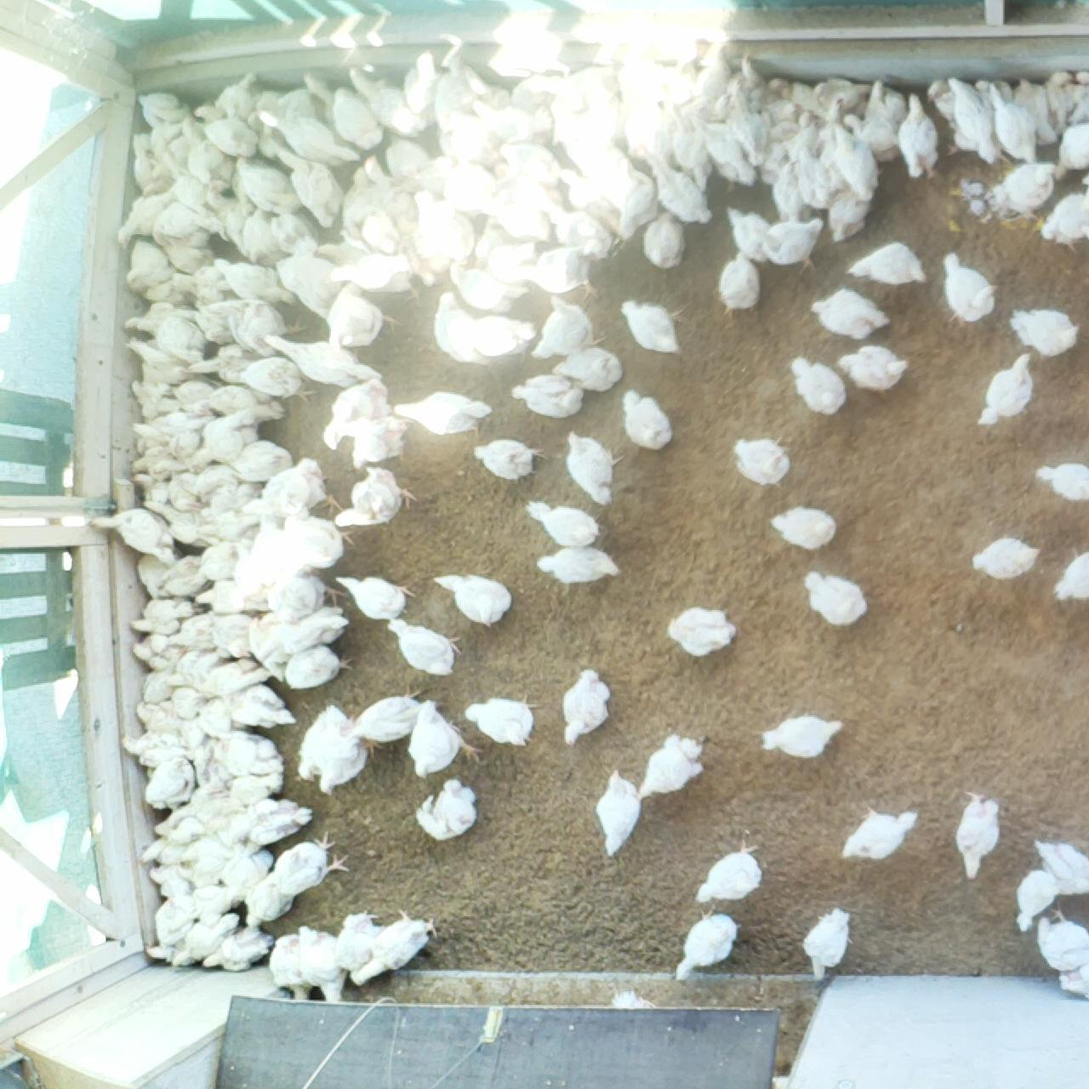chicken: (630, 140, 716, 230), (239, 456, 350, 522), (403, 697, 485, 783), (301, 69, 384, 151), (353, 909, 443, 984), (264, 332, 384, 388), (577, 149, 661, 228), (337, 682, 438, 747), (262, 828, 357, 897), (349, 65, 434, 140), (258, 109, 361, 168), (319, 378, 399, 453), (558, 167, 639, 241), (361, 151, 433, 234), (672, 901, 745, 981), (276, 144, 346, 227), (87, 507, 179, 569), (927, 75, 996, 157), (320, 283, 404, 350), (386, 615, 470, 682), (688, 110, 760, 187), (333, 465, 420, 528), (530, 294, 612, 360), (392, 389, 501, 438), (244, 522, 323, 589), (975, 350, 1043, 427), (509, 242, 607, 294), (277, 251, 353, 318), (692, 837, 769, 903), (636, 735, 710, 803), (263, 604, 358, 656), (795, 906, 859, 983), (280, 509, 362, 569), (837, 807, 923, 864), (330, 906, 392, 985), (460, 691, 545, 748), (429, 288, 488, 370), (982, 162, 1061, 223), (564, 430, 627, 506), (416, 775, 484, 845), (295, 705, 356, 783), (448, 259, 531, 316), (233, 154, 308, 217), (619, 298, 699, 357), (545, 204, 622, 265), (810, 287, 895, 342), (212, 257, 300, 310), (952, 790, 1003, 881), (946, 79, 1003, 160), (590, 769, 643, 856), (257, 573, 351, 622), (941, 250, 1000, 328), (231, 301, 316, 355), (722, 77, 773, 167), (432, 572, 512, 629), (216, 362, 320, 405), (114, 185, 181, 251), (842, 239, 930, 289), (333, 573, 419, 624), (560, 665, 612, 749), (469, 98, 556, 148), (522, 497, 605, 549), (898, 91, 944, 184), (595, 106, 665, 167), (757, 218, 827, 279), (801, 569, 872, 628), (987, 84, 1040, 163), (201, 184, 259, 256), (168, 912, 245, 966), (829, 121, 883, 198), (141, 497, 224, 547), (758, 714, 846, 761), (187, 411, 259, 468), (299, 921, 349, 1003), (663, 606, 740, 659), (835, 345, 912, 397), (193, 70, 267, 124), (452, 315, 540, 360), (790, 354, 850, 420), (316, 729, 374, 797), (431, 108, 499, 166), (393, 212, 447, 285), (208, 728, 288, 777), (349, 415, 419, 471), (327, 252, 416, 296), (435, 155, 502, 212), (199, 925, 278, 973), (507, 372, 586, 420), (125, 421, 189, 480), (1009, 306, 1080, 359), (219, 683, 299, 730), (569, 72, 624, 140), (267, 931, 320, 1001), (281, 644, 358, 692), (198, 652, 280, 697), (532, 545, 622, 586), (149, 199, 225, 247), (667, 114, 713, 193), (412, 189, 460, 264), (1034, 907, 1089, 972), (226, 541, 279, 608), (835, 109, 902, 162), (763, 76, 834, 126), (549, 347, 626, 393), (1032, 837, 1089, 899), (167, 883, 251, 925), (470, 439, 550, 483), (400, 47, 448, 120), (246, 611, 296, 681), (231, 804, 316, 845), (341, 210, 415, 257), (769, 503, 841, 551), (971, 532, 1043, 580), (129, 595, 205, 640), (724, 203, 780, 264), (745, 118, 800, 180), (153, 316, 216, 370), (185, 342, 266, 384), (482, 199, 554, 246), (495, 140, 564, 189), (189, 576, 273, 616), (621, 390, 676, 451), (433, 55, 483, 122), (124, 236, 178, 298), (194, 385, 287, 421), (428, 200, 479, 265), (334, 163, 385, 228), (547, 109, 597, 174), (230, 439, 302, 484), (125, 334, 192, 382), (689, 38, 737, 105), (666, 91, 729, 142), (731, 436, 793, 487), (146, 896, 195, 960), (185, 137, 240, 194), (120, 726, 198, 766), (149, 410, 218, 455), (771, 156, 816, 225), (187, 735, 236, 798), (173, 468, 250, 508), (1019, 71, 1059, 148), (714, 251, 762, 315), (241, 206, 293, 265), (477, 237, 542, 283), (120, 300, 203, 336), (217, 842, 280, 889), (144, 757, 195, 815), (620, 46, 670, 105), (133, 698, 201, 741), (242, 873, 295, 928), (810, 71, 879, 113), (154, 553, 216, 599), (190, 509, 265, 547), (175, 832, 241, 875), (196, 295, 255, 343), (127, 130, 174, 190), (126, 378, 190, 422), (209, 773, 289, 808), (1013, 868, 1058, 930), (163, 610, 226, 654), (164, 647, 228, 690), (216, 492, 288, 530), (796, 143, 836, 211), (828, 187, 874, 246), (262, 84, 328, 125), (135, 470, 195, 515), (207, 611, 261, 661), (506, 71, 567, 115), (195, 539, 253, 585), (485, 174, 555, 212), (380, 131, 435, 179), (726, 50, 773, 106), (642, 213, 688, 270), (128, 632, 190, 674), (458, 67, 507, 120), (269, 211, 323, 259), (762, 89, 810, 143), (183, 265, 244, 307), (1039, 194, 1082, 253), (200, 116, 260, 158), (148, 863, 218, 899), (246, 112, 294, 163), (1053, 118, 1089, 186), (152, 119, 199, 171), (1035, 457, 1089, 502), (138, 268, 198, 308), (135, 87, 196, 126), (153, 242, 225, 275), (800, 111, 843, 165), (194, 800, 247, 843), (1044, 68, 1077, 137), (136, 833, 199, 869), (193, 699, 246, 741), (142, 659, 187, 708), (136, 551, 181, 599), (863, 77, 911, 122), (152, 800, 208, 838), (660, 53, 700, 106), (1052, 549, 1089, 604), (476, 216, 516, 266), (168, 381, 223, 413), (164, 683, 214, 717), (318, 237, 371, 265), (1053, 964, 1089, 1003), (418, 169, 458, 204), (1067, 68, 1089, 127), (992, 74, 1022, 105), (224, 948, 301, 960), (973, 73, 1003, 103), (1080, 186, 1089, 244), (434, 737, 454, 740)
